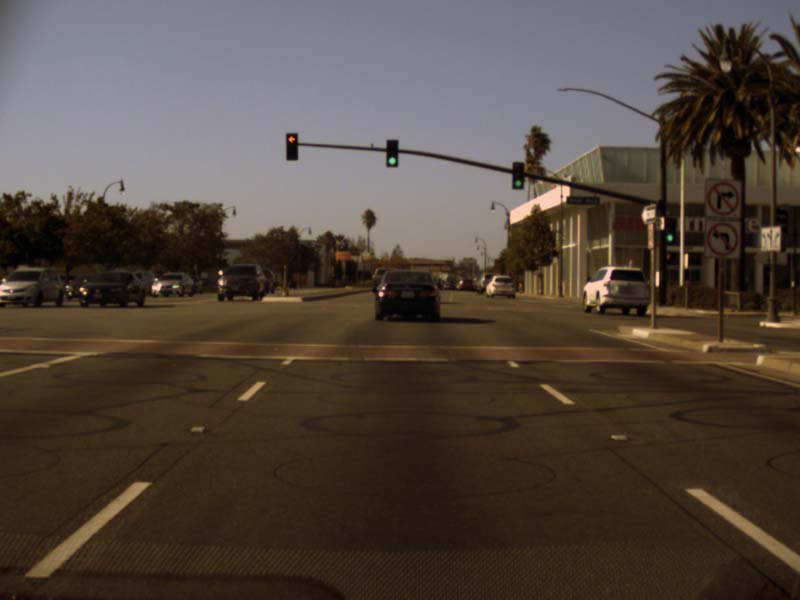Green: (512, 161, 523, 189), (665, 217, 676, 244), (386, 139, 397, 166)
Red: (285, 132, 298, 161)
